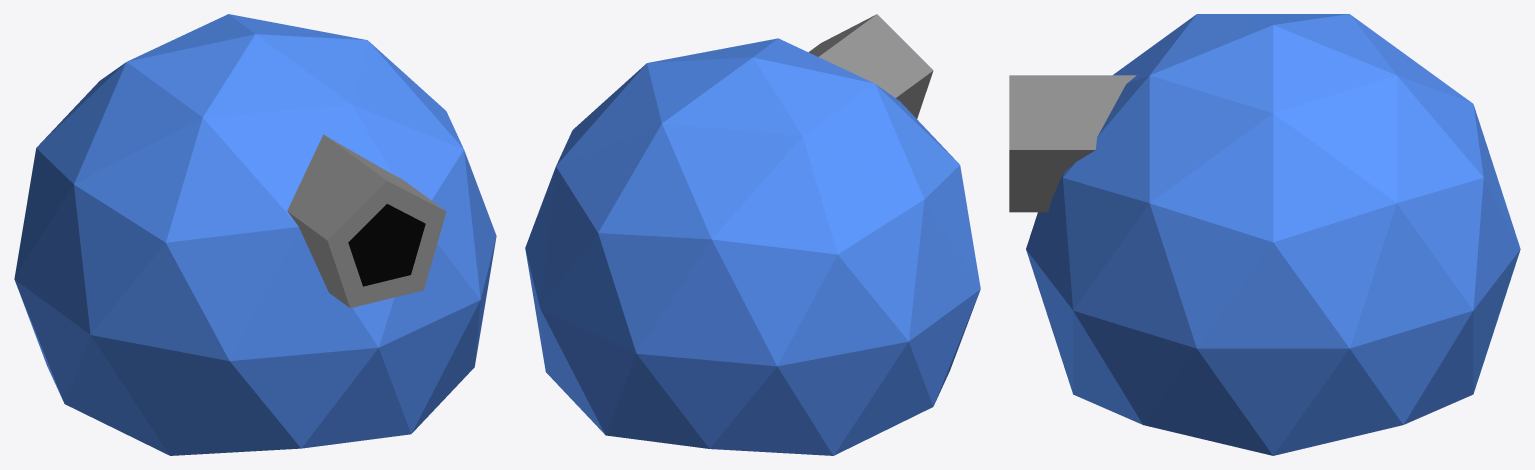
Rendered from boss1.glb.
The picture shows the model from 3 angles, left to right: view 1: azimuth 30°, elevation 25°; view 2: azimuth 150°, elevation 25°; view 3: azimuth 270°, elevation 25°; orthographic projection. The views are drawn at different scales.
Visible parts, largest first — view 1: Icosphere; view 2: Icosphere; view 3: Icosphere.
Boxes of the visible parts, x1,y1,x2,y2 form: Icosphere: (14, 14, 496, 455); Icosphere: (525, 14, 980, 455); Icosphere: (1009, 14, 1520, 455).
Bounding box in the file's own units: 1.9 × 1.53 × 2.07.
